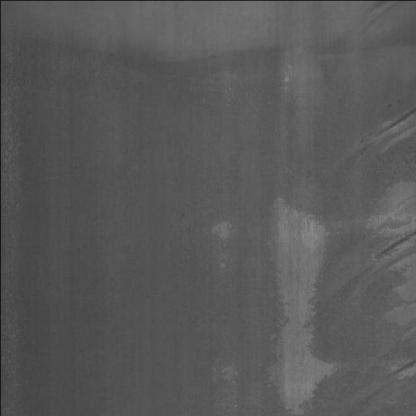crease: (340, 100, 416, 156), (366, 216, 416, 270), (375, 340, 416, 394)
